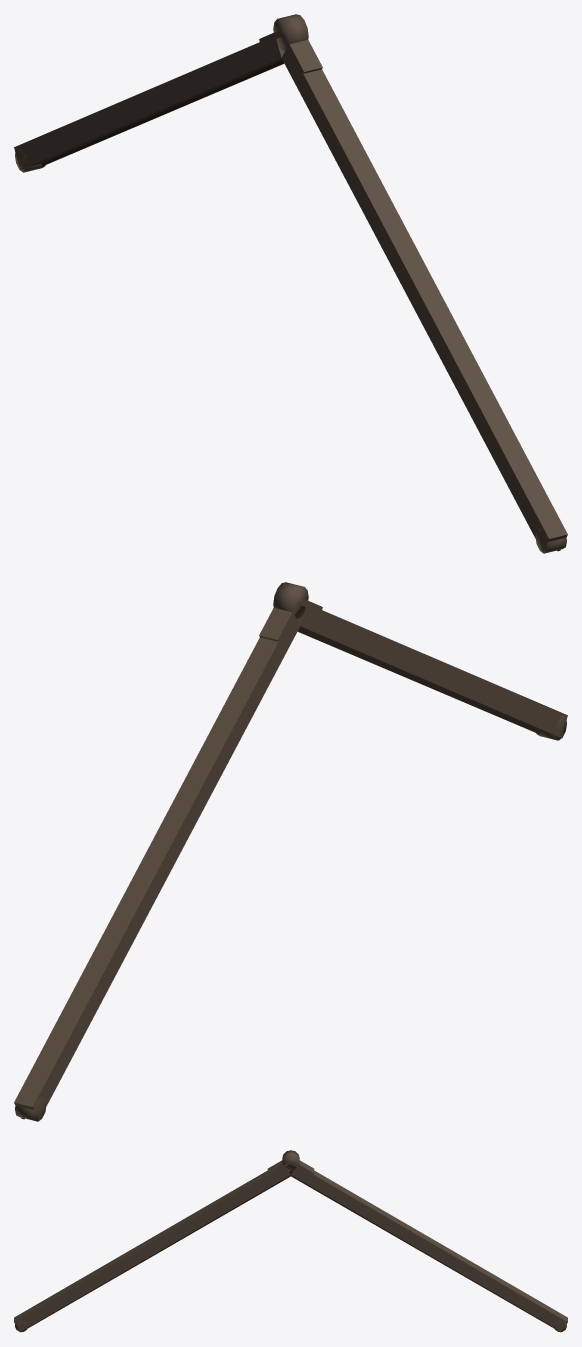
File: kit_timber_thatch_w10_end.glb
The picture shows the model from 3 angles, top to bottom: view 1: azimuth 30°, elevation 25°; view 2: azimuth 150°, elevation 25°; view 3: azimuth 270°, elevation 25°; orthographic projection. The views are drawn at different scales.
Parts seen in each view (by area): view 1: kit_timber_thatch_w10_end; view 2: kit_timber_thatch_w10_end; view 3: kit_timber_thatch_w10_end.
Boxes of the visible parts, x1=… form: kit_timber_thatch_w10_end: x1=14, y1=14, x2=567, y2=553; kit_timber_thatch_w10_end: x1=14, y1=582, x2=567, y2=1121; kit_timber_thatch_w10_end: x1=14, y1=1150, x2=567, y2=1332.
Size of the model in its own units: 0.22 by 3.85 by 10.86.
